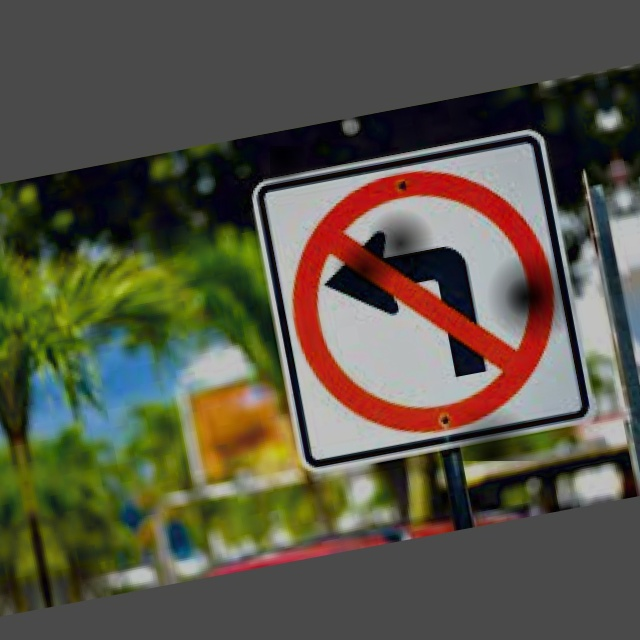Left_Turn_Prohibited: (270, 146, 583, 461)
